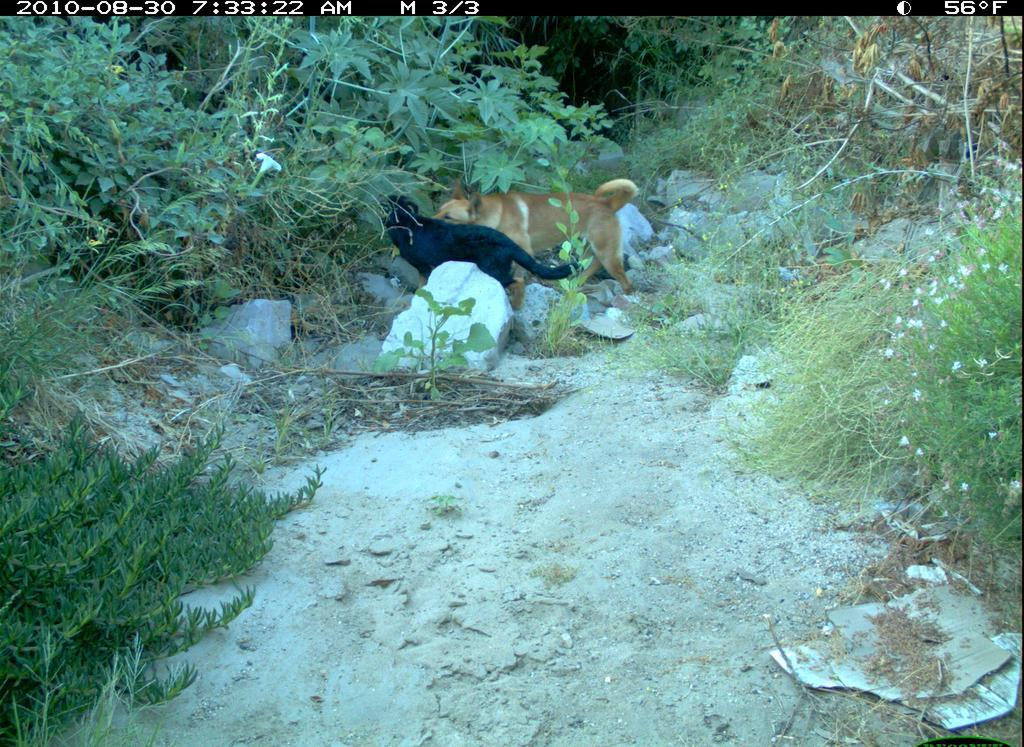dog: (366, 193, 605, 320), (429, 166, 643, 300)
